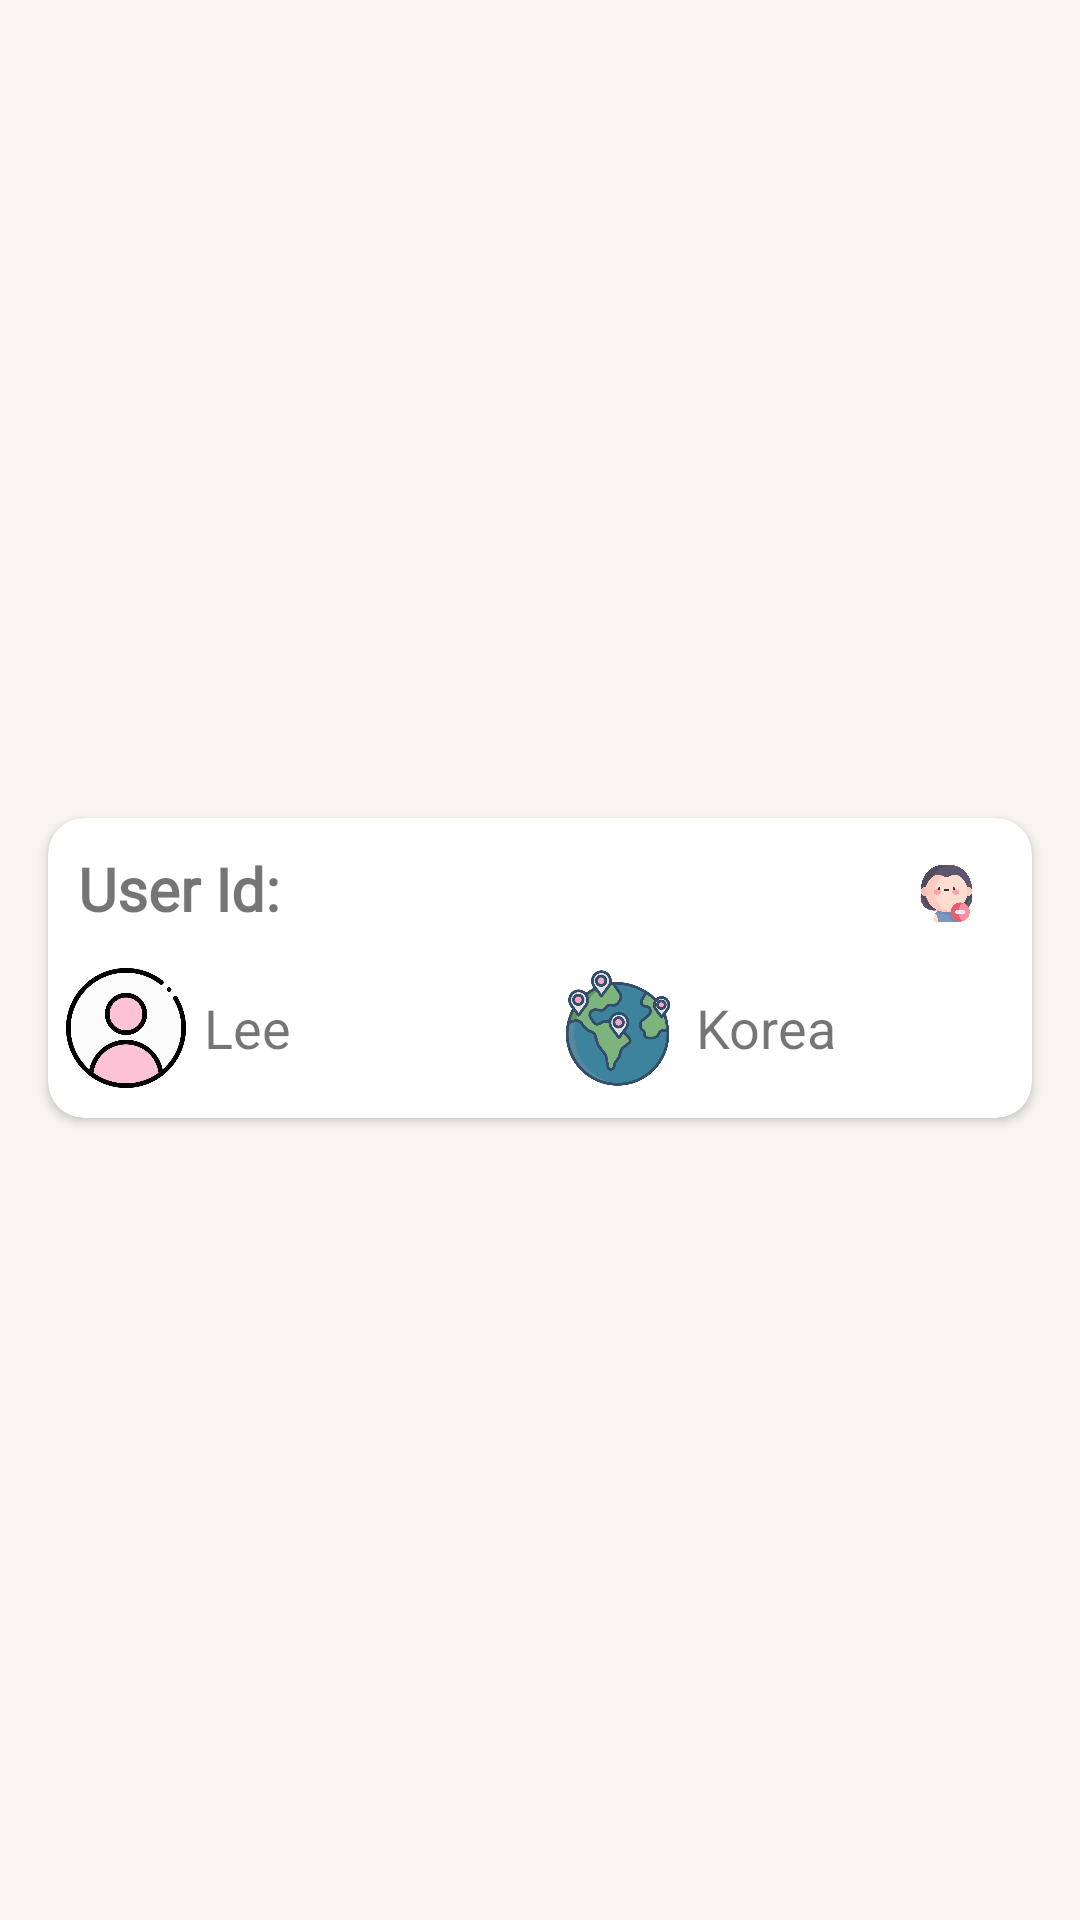

Locate icon controls on the screen. Image size 1080x1920, boxes as (x1,y1,x2,y2).
remove: (920,865,973,922)
